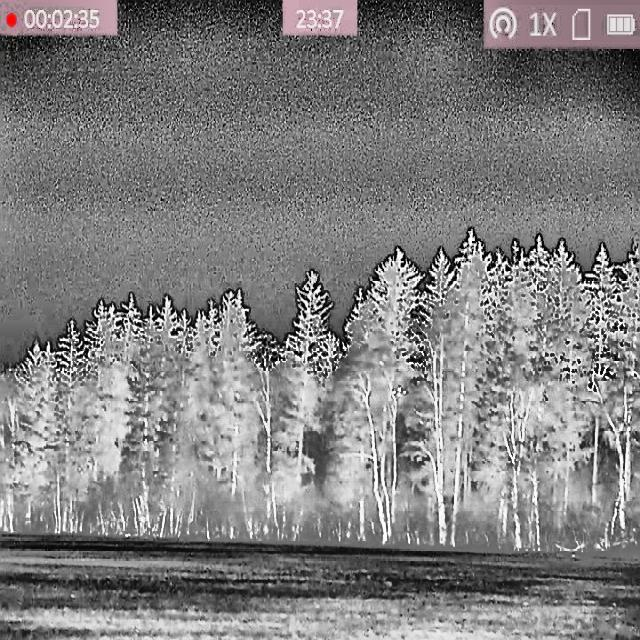drone: (392, 384, 407, 399)
